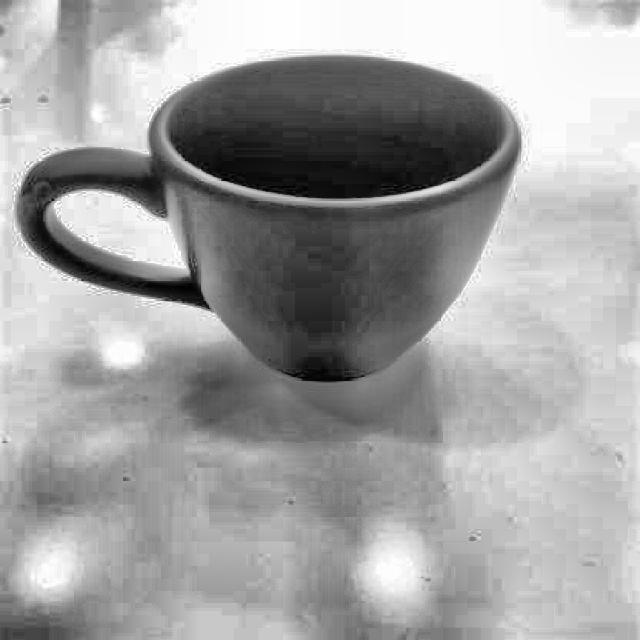Mug: (13, 51, 524, 387)
